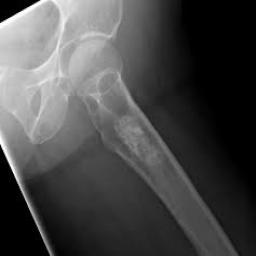cancer: (112, 109, 169, 179)
